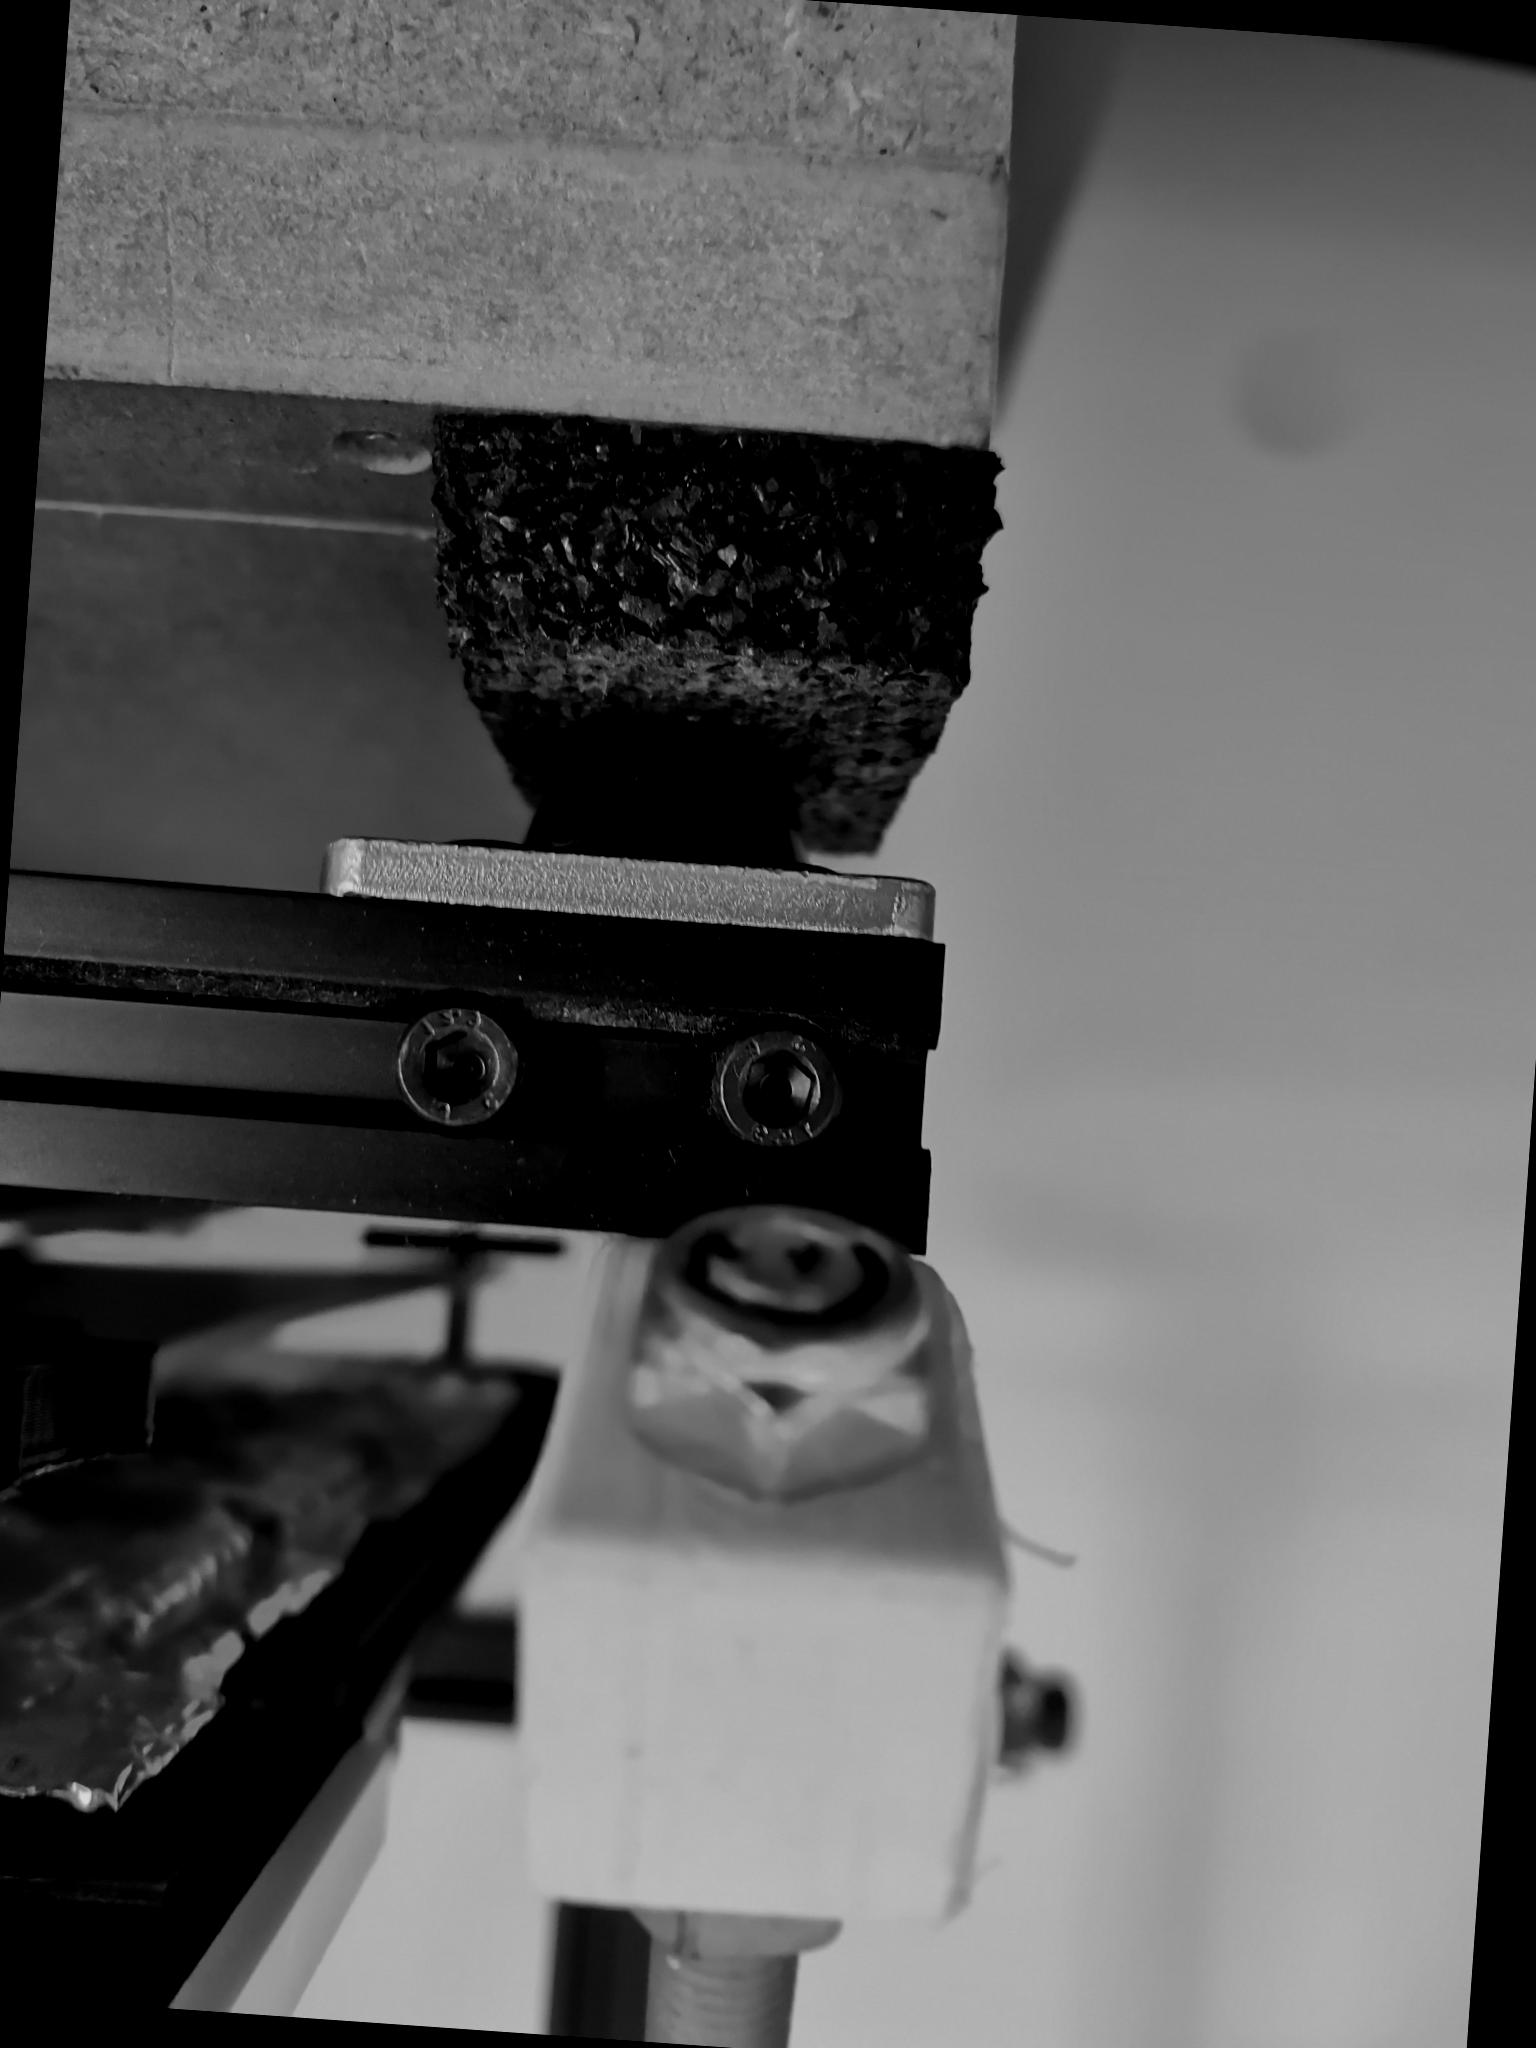allen: (384, 985, 541, 1135), (703, 1013, 857, 1164)
